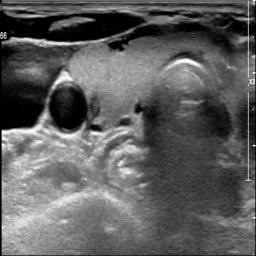mass: (89, 94, 103, 116)
